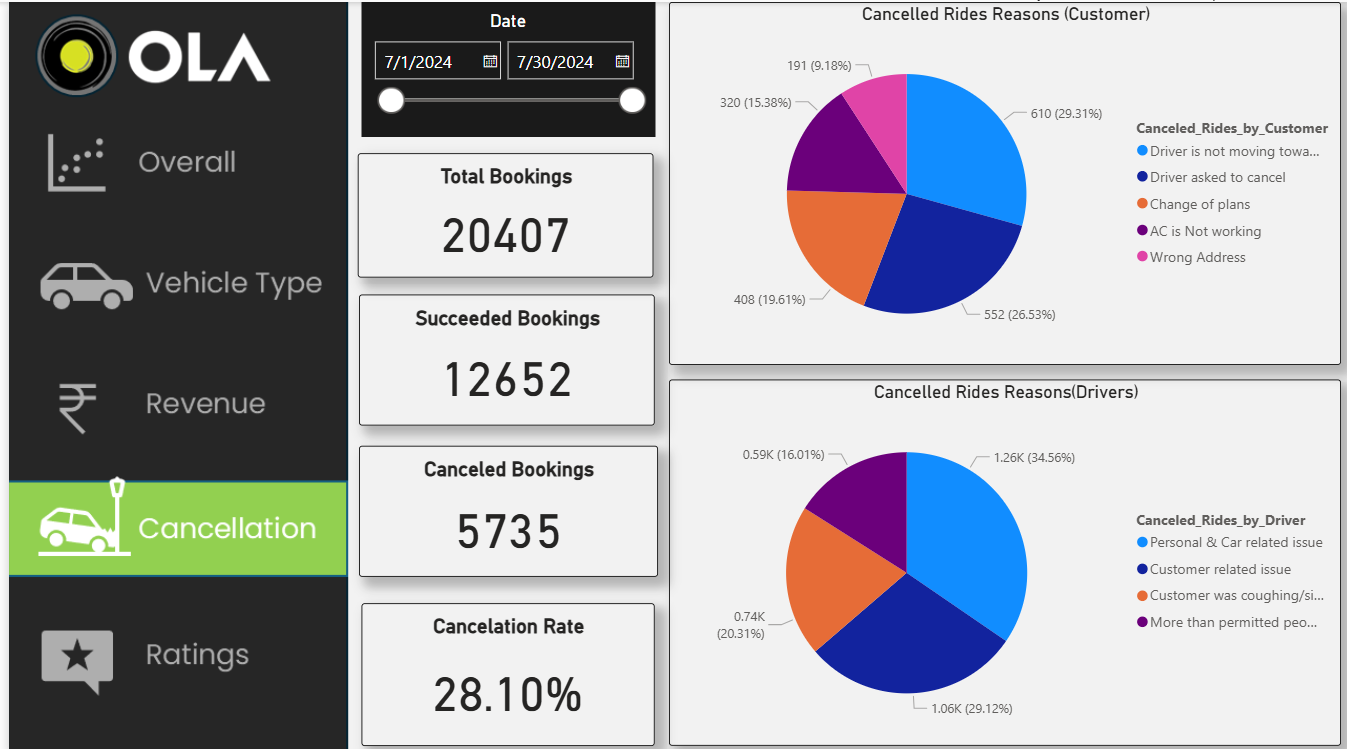

What the dashboard file says about the page in this screenshot:
{"tool":"powerbi","page":{"name":"Cancellations","canvas":[1280,720],"ordinal":3},"visuals":[{"type":"actionButton","box":[0,203.6,322.6,92.9],"z":0},{"type":"actionButton","box":[1.2,329.8,322.6,92.9],"z":1000},{"type":"actionButton","box":[0,572.6,322.6,92.9],"z":2000},{"type":"actionButton","box":[0,111.4,323.2,92],"z":3000},{"type":"pieChart","title":"Cancelled Rides Reasons (Customer)","fields":{"Category":["Bookings.Canceled_Rides_by_Customer"],"Y":["CountNonNull(Bookings.Canceled_Rides_by_Customer)"]},"box":[629.2,0,640.3,345.8],"z":4000},{"type":"pieChart","title":"Cancelled Rides Reasons(Drivers)","fields":{"Category":["Bookings.Canceled_Rides_by_Driver"],"Y":["CountNonNull(Bookings.Canceled_Rides_by_Driver)"]},"box":[629.2,359.7,640.3,348.6],"z":5000},{"type":"slicer","title":"Date","fields":{"Values":["Bookings.Date"]},"box":[336.1,0,279.2,127.8],"z":6000},{"type":"card","title":"Total Bookings","fields":{"Values":["CountNonNull(Bookings.Booking_ID)"]},"box":[331.9,144.4,281.9,118.1],"z":7000},{"type":"card","title":"Succeeded Bookings","fields":{"Values":["CountNonNull(Bookings.Booking_ID)"]},"box":[333.3,279.2,281.9,125],"z":8000},{"type":"card","title":"Canceled Bookings","fields":{"Values":["CountNonNull(Bookings.Booking_ID)"]},"box":[333.3,422.2,284.7,125],"z":9000},{"type":"card","title":"Cancelation Rate","fields":{"Values":["Bookings.CancellationPercentage"]},"box":[336.1,572.2,279.2,136.1],"z":10000}]}

Visuals, with their boxes in screenshot pixels (x1, y1, x2, y2), scaled from the page's 1280x720 canvas onto the 1347x749 screenshot:
actionButton: [0, 212, 339, 308]
actionButton: [1, 343, 341, 440]
actionButton: [0, 596, 339, 692]
actionButton: [0, 116, 340, 212]
"Cancelled Rides Reasons (Customer)" pieChart: [662, 0, 1336, 360]
"Cancelled Rides Reasons(Drivers)" pieChart: [662, 374, 1336, 737]
"Date" slicer: [354, 0, 648, 133]
"Total Bookings" card: [349, 150, 646, 273]
"Succeeded Bookings" card: [351, 290, 647, 420]
"Canceled Bookings" card: [351, 439, 650, 569]
"Cancelation Rate" card: [354, 595, 648, 737]
